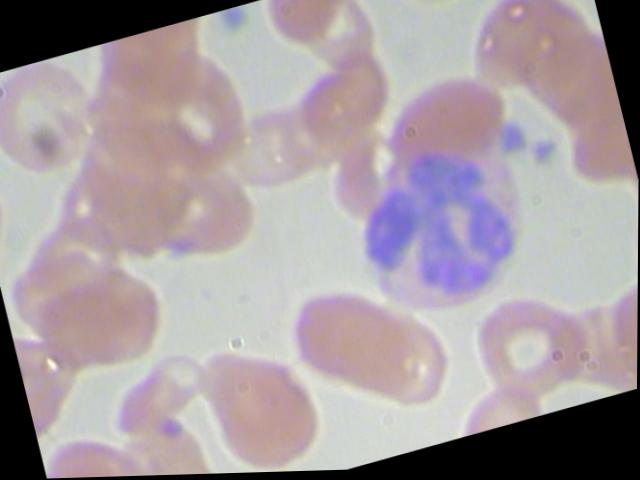Platelets: (488, 117, 539, 165), (516, 129, 567, 176), (211, 5, 256, 44)
Red Blood Cells: (187, 324, 341, 475), (26, 258, 182, 396), (461, 281, 605, 413), (282, 271, 423, 404), (373, 61, 520, 187), (0, 47, 121, 191), (131, 152, 267, 273), (447, 0, 595, 105), (345, 308, 476, 425), (9, 203, 142, 318), (206, 93, 336, 210), (277, 45, 407, 162), (99, 343, 229, 446), (37, 415, 157, 478)
White Blood Cells: (335, 130, 545, 342)
